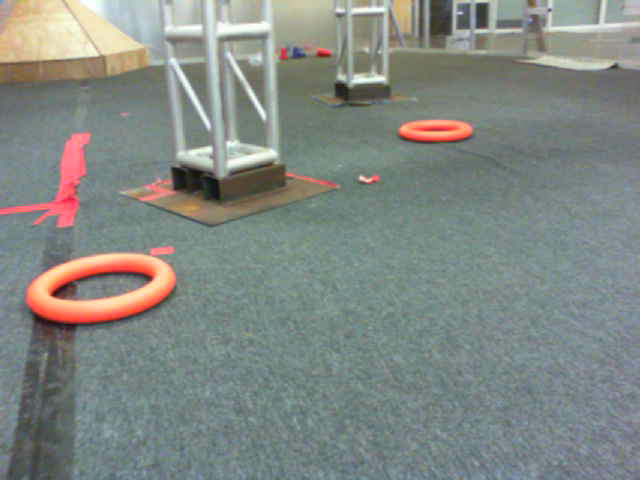Note: (33, 254, 182, 334), (402, 122, 478, 149)
